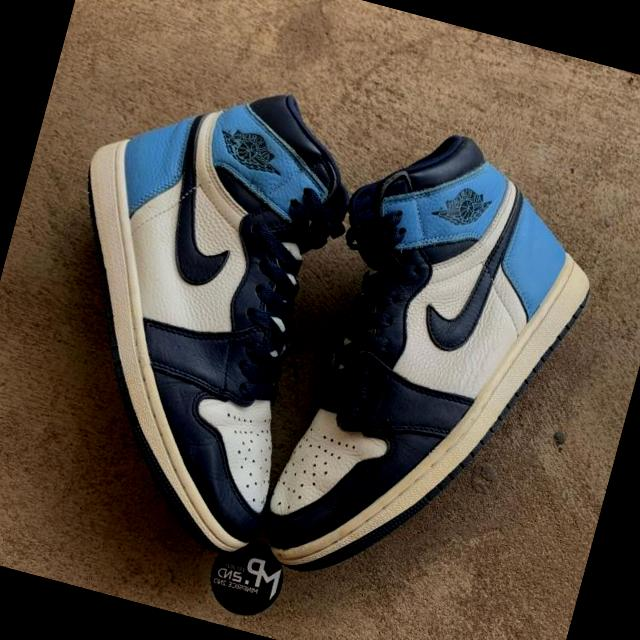nike_original_jordan: (242, 106, 621, 632), (0, 47, 375, 565)
